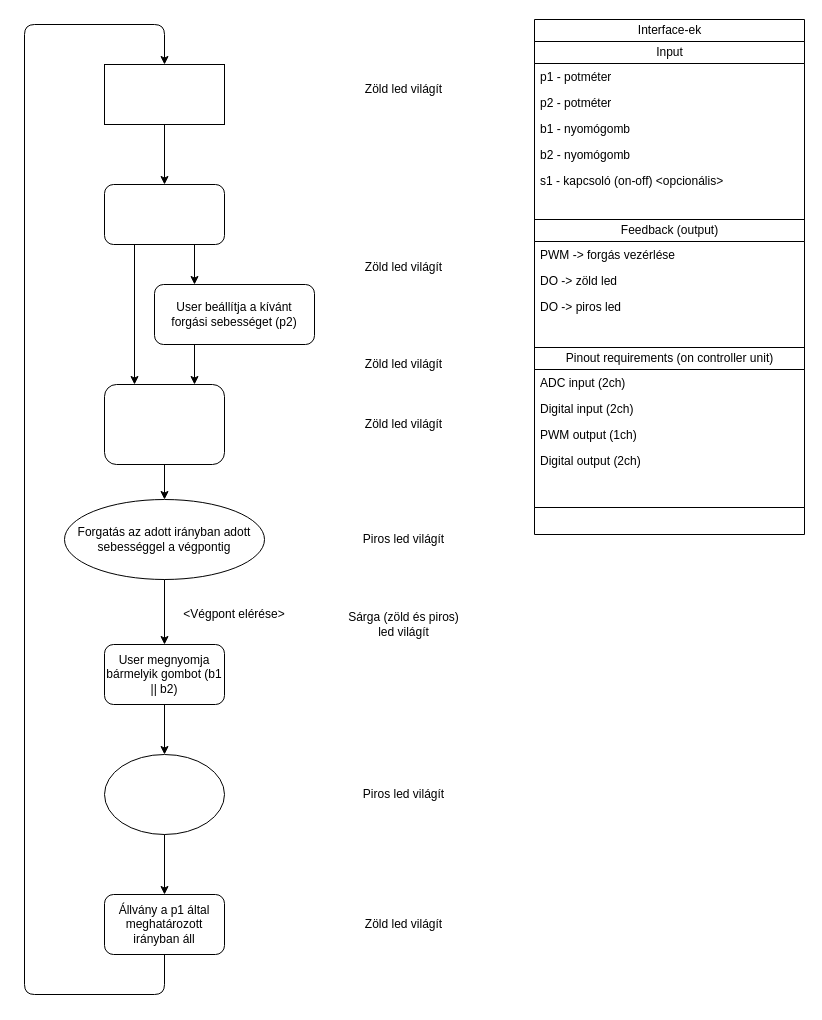
Image size: 822x1020. Some labels were removed from this diagram. The centre of each missing label's shape, as x and y in pixels:
User beállítja az a ktuális irányt /szöget/ (p1): (164,214)
Valamelyik végpont felé elindítja a forgatást gombnyomással (b1 || b2): (164,424)
Várakozás user inputra: (164,94)
Állvány visszafordul a p1 által beállított irányba: (164,794)
